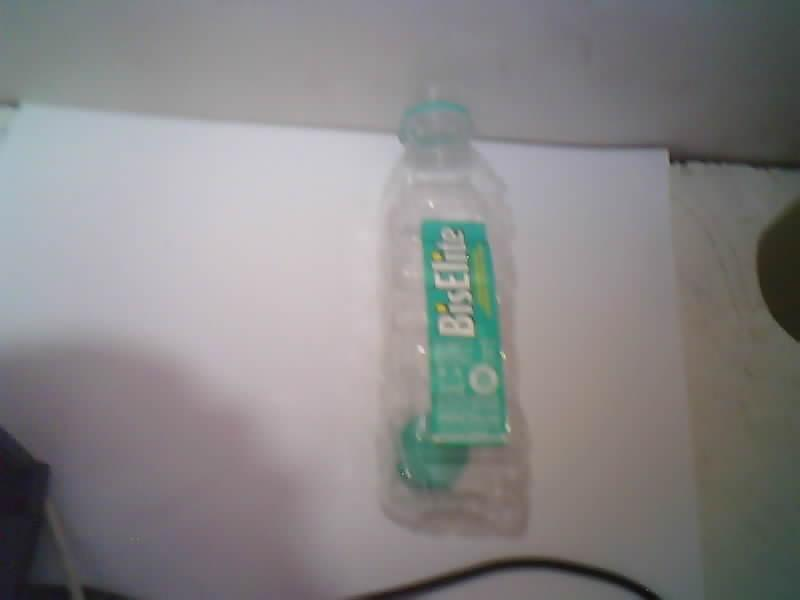non-biodegradable: (377, 95, 528, 534)
